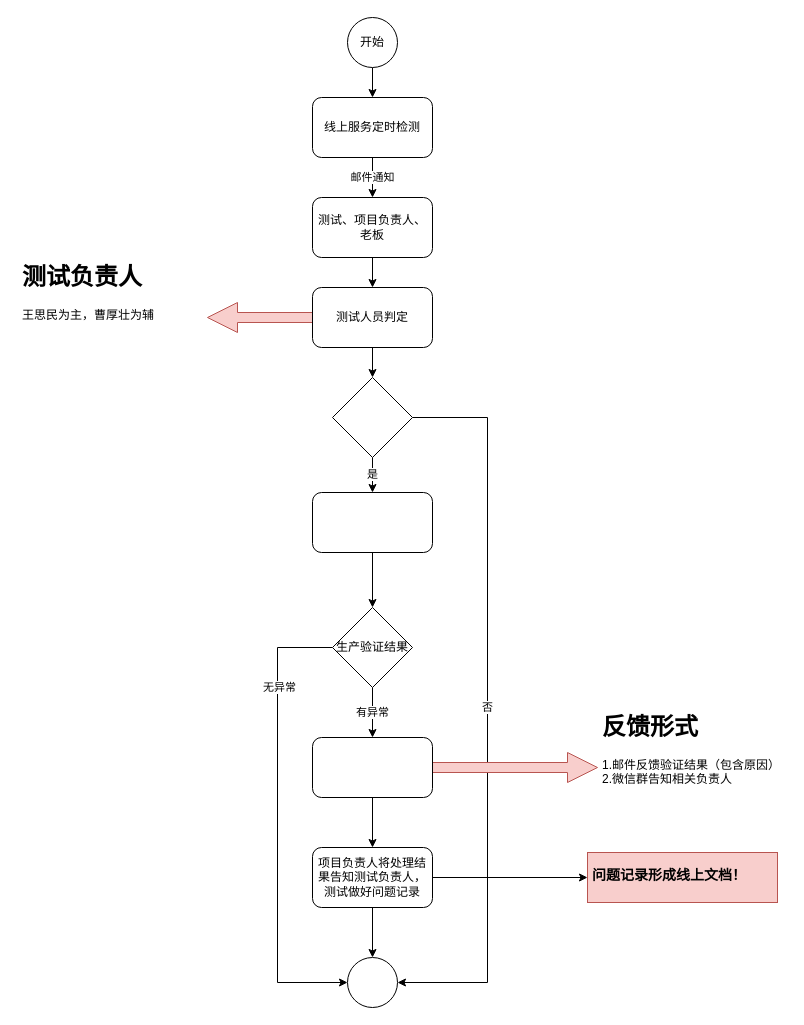
Some shapes in this 804 by 1025 pixel diagram are drawn without their labels. The centre of each missing label's shape, as x and y in pixels:
"是否有异常" goes at [372,417].
"测试手动生产验证" goes at [372,522].
"结束" goes at [372,982].
"统一反馈给梅霖，由梅霖告知项目负责人" goes at [372,767].
